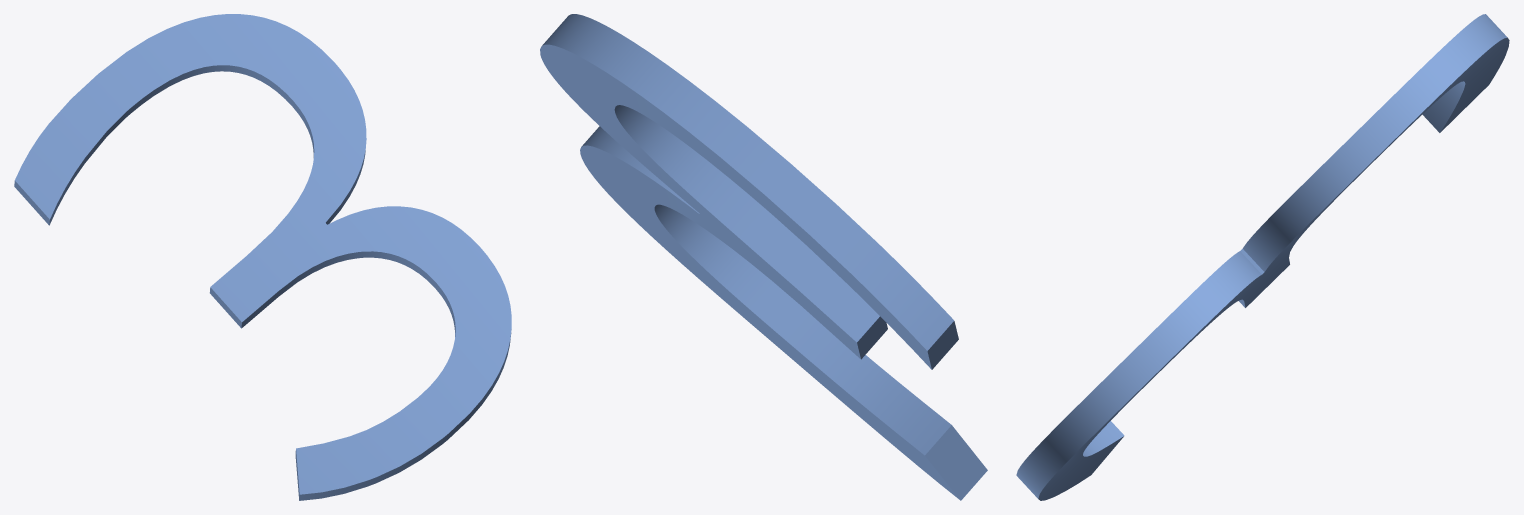
File: Number_3.gltf
3 views of the same model, side by side, from view 1: azimuth 30°, elevation 25°; view 2: azimuth 150°, elevation 25°; view 3: azimuth 270°, elevation 25° (orthographic). The views are drawn at different scales.
Visible parts, largest first — view 1: Sub_6_Cell_2_2_Number_3; view 2: Sub_6_Cell_2_2_Number_3; view 3: Sub_6_Cell_2_2_Number_3.
Part boxes in pixels (x1,y1,x2,y2): Sub_6_Cell_2_2_Number_3: (14,14,511,500); Sub_6_Cell_2_2_Number_3: (540,14,987,500); Sub_6_Cell_2_2_Number_3: (1016,14,1509,500).
Bounding box in the file's own units: 0.0209 × 0.0208 × 0.0194.
